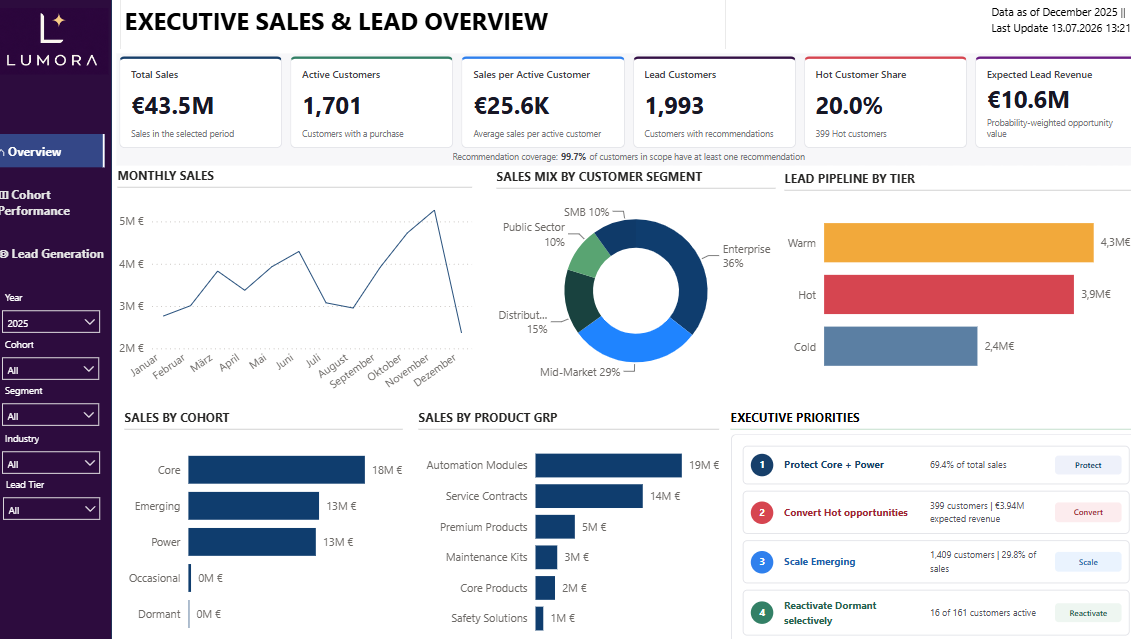

The page's visual inventory and layout, read from the dashboard file:
{"tool":"powerbi","page":{"name":" ⌂ Overview","canvas":[1280,720],"ordinal":0},"visuals":[{"type":"shape","box":[0,0,132.2,720],"z":0},{"type":"image","box":[3,0,125,94],"z":1000},{"type":"textbox","box":[141.6,0,672.8,56.5],"z":2000},{"type":"lineChart","title":"MONTHLY SALES","fields":{"Category":["dimCalendar.year","dimCalendar.month_name"],"Y":["_measures.Sales"]},"box":[132.9,187.1,404.3,268.6],"z":3000},{"type":"htmlContent443BE3AD55E043BF878BED274D3A6855","title":"EXECUTIVE PRIORITIES","fields":{"content":["_measures.Executive Priorities HTML"]},"box":[814.3,455.7,465.7,264.3],"z":4000},{"type":"donutChart","title":"SALES MIX BY CUSTOMER SEGMENT","fields":{"Category":["dimCustomer.Customer_Segment"],"Y":["_measures.Sales"]},"box":[554.4,187.8,320,248.9],"z":6000},{"type":"clusteredBarChart","title":"SALES BY PRODUCT GRP ","fields":{"Category":["dimProduct.Prd_Grp_1"],"Y":["_measures.Sales"]},"box":[467.8,455.6,344.4,264.4],"z":7000},{"type":"htmlContent443BE3AD55E043BF878BED274D3A6855","fields":{"content":["_measures.Update Card Label"]},"box":[1104,0,176,47],"z":8000},{"type":"slicer","fields":{"Values":["dimCalendar.year"]},"box":[0,318.9,128.6,65.9],"z":10000},{"type":"slicer","fields":{"Values":["dimCustomer.cluster_cohort_ML"]},"box":[0,371.2,127.5,66.2],"z":11000},{"type":"slicer","fields":{"Values":["dimCustomer.Customer_Segment"]},"box":[0,422.5,127.5,66.2],"z":12000},{"type":"slicer","fields":{"Values":["dimCustomer.Industry"]},"box":[0,475,129,66],"z":13000},{"type":"slicer","fields":{"Values":["leadsLong.Customer_Lead_Tier"]},"box":[1,527,128,66],"z":14000},{"type":"htmlContent443BE3AD55E043BF878BED274D3A6855","fields":{"content":["_measures.Executive Overview KPI HTML"]},"box":[132,56,1148,134],"z":15000},{"type":"pageNavigator","box":[0,149.9,124.4,153.1],"z":16000},{"type":"clusteredBarChart","title":"LEAD PIPELINE BY TIER","fields":{"Category":["leadsLong.Customer_Lead_Tier"],"Y":["_measures.Expected Revenue"]},"box":[874,190,406,247],"z":17001},{"type":"clusteredBarChart","title":"SALES BY COHORT","fields":{"Y":["_measures.Sales"],"Category":["dimCustomer.cluster_cohort_ML"]},"box":[141.1,455.6,318.9,264.4],"z":17002}]}

Visuals, with their boxes on the page's 1280x720 design canvas (x1, y1, x2, y2). These are canvas units, not pixel positions in the 1131x639 screenshot, which may show the page scaled, cropped or inside an application window:
shape: detection(0, 0, 132, 720)
image: detection(3, 0, 128, 94)
textbox: detection(142, 0, 814, 56)
"MONTHLY SALES" lineChart: detection(133, 187, 537, 456)
"EXECUTIVE PRIORITIES" htmlContent443BE3AD55E043BF878BED274D3A6855: detection(814, 456, 1280, 720)
"SALES MIX BY CUSTOMER SEGMENT" donutChart: detection(554, 188, 874, 437)
"SALES BY PRODUCT GRP " clusteredBarChart: detection(468, 456, 812, 720)
htmlContent443BE3AD55E043BF878BED274D3A6855 - _measures.Update Card Label: detection(1104, 0, 1280, 47)
slicer - dimCalendar.year: detection(0, 319, 129, 385)
slicer - dimCustomer.cluster_cohort_ML: detection(0, 371, 128, 437)
slicer - dimCustomer.Customer_Segment: detection(0, 422, 128, 489)
slicer - dimCustomer.Industry: detection(0, 475, 129, 541)
slicer - leadsLong.Customer_Lead_Tier: detection(1, 527, 129, 593)
htmlContent443BE3AD55E043BF878BED274D3A6855 - _measures.Executive Overview KPI HTML: detection(132, 56, 1280, 190)
pageNavigator: detection(0, 150, 124, 303)
"LEAD PIPELINE BY TIER" clusteredBarChart: detection(874, 190, 1280, 437)
"SALES BY COHORT" clusteredBarChart: detection(141, 456, 460, 720)
